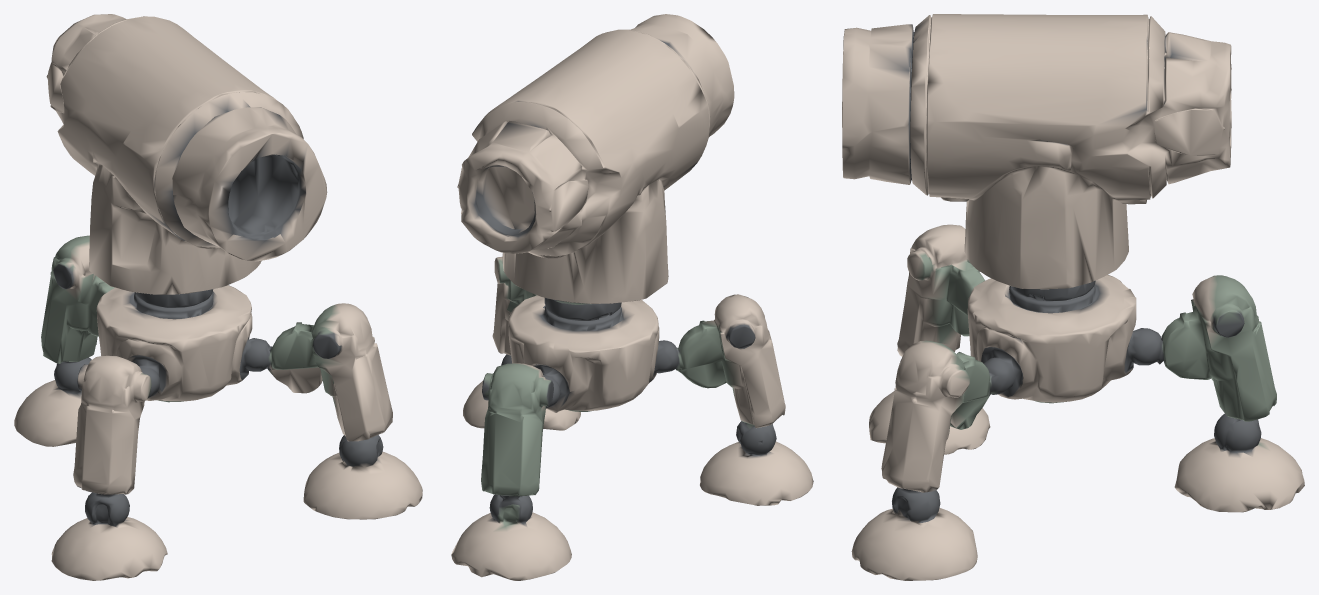
Rendered from body.glb.
3 renders of one model, left to right at view 1: azimuth 30°, elevation 25°; view 2: azimuth 150°, elevation 25°; view 3: azimuth 270°, elevation 25°, orthographic. The views are drawn at different scales.
Parts seen in each view (by area): view 1: tripod; view 2: tripod; view 3: tripod.
Part boxes in pixels (x1,y1,x2,y2): tripod: (14,14,422,580); tripod: (451,14,813,580); tripod: (842,14,1304,580).
Bounding box in the file's own units: 2.6 × 3.1 × 2.75.
